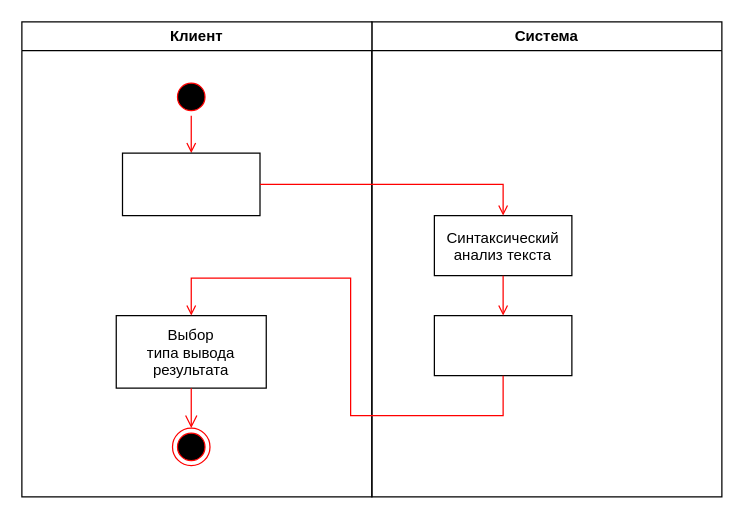
Some shapes in this 744 by 519 pixel diagram are drawn without their labels. Each missing label, with the centre of its shape:
Запрос проведения синтакс. анализа: (190,184)
Формирование метаграфа: (502,345)
